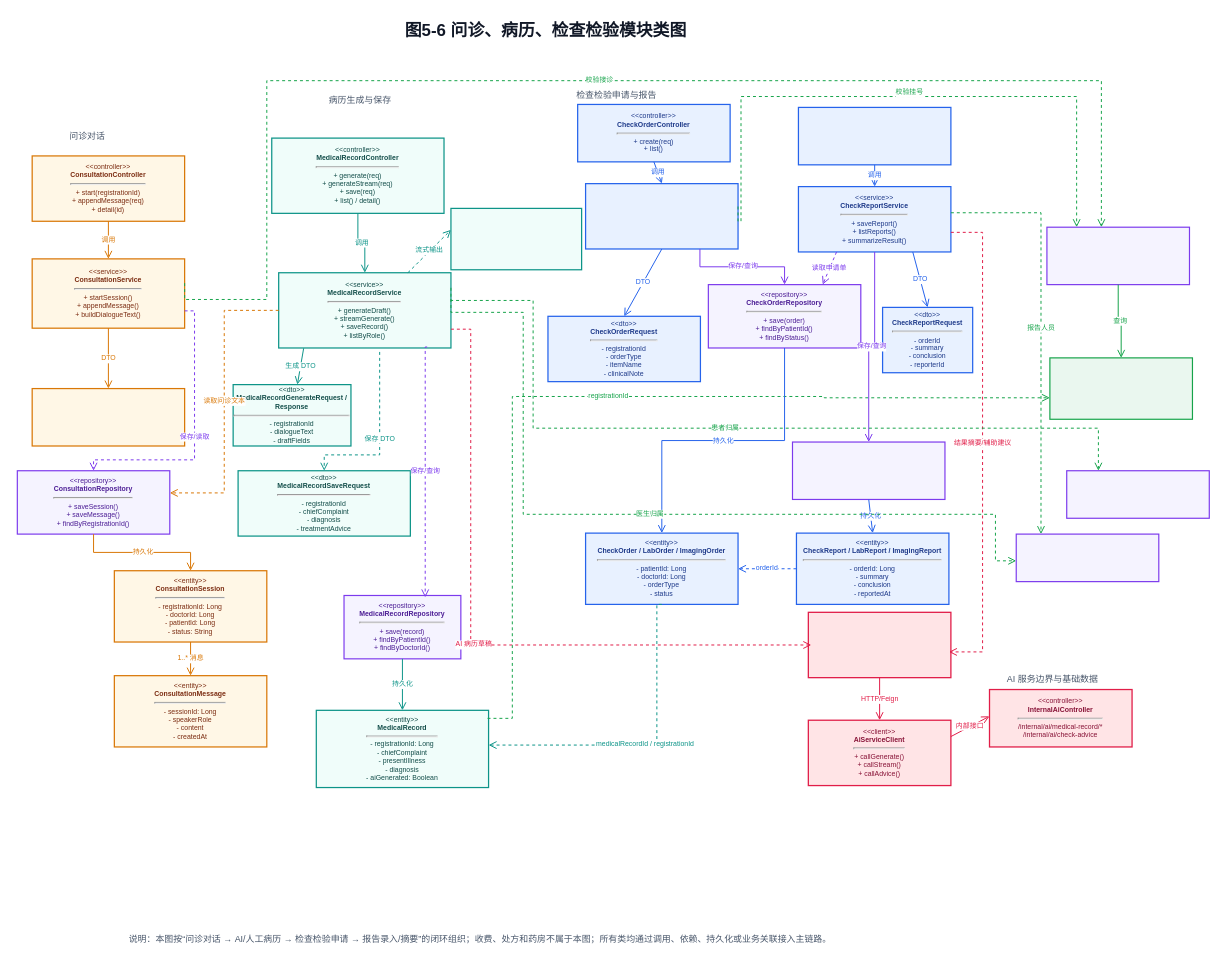
Some shapes in this 1228 by 969 pixel diagram are drawn without their labels. The shapes that lost their labels are listed below. From the top down, each one's box as (x1, y1, x2, y2) in pixels, then its label:
(797, 106, 951, 165): <<controller>> CheckReportController + save(req) + list()
(584, 183, 738, 249): <<service>> CheckOrderService + createOrder() + listByRole() + cancelOrder()
(450, 207, 582, 270): <<framework>> SseEmitter + send(delta) + complete() + completeWithError()
(1046, 226, 1190, 285): <<repository>> RegistrationRepository + findById() + validateDoctorVisit()
(1049, 357, 1193, 419): <<entity>> Registration - patientId: Long - doctorId: Long - status
(31, 387, 185, 446): <<dto>> ConsultationMessageRequest - sessionId - speakerRole - content
(791, 441, 945, 500): <<repository>> CheckReportRepository + save(report) + findByOrderId()
(1066, 470, 1209, 518): <<repository>> PatientRepository + findById()
(1015, 533, 1159, 582): <<repository>> DoctorRepository + findById()
(807, 611, 951, 678): <<client>> AiGatewayService + generateRecord() + streamRecord() + checkAdvice()
